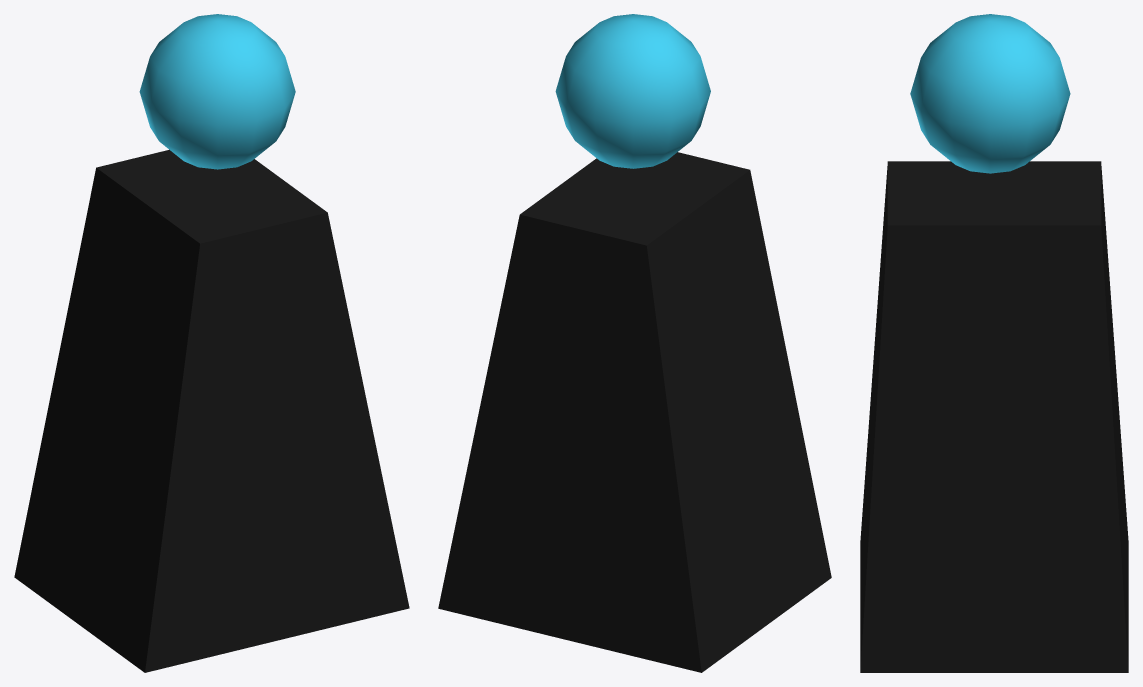
The model's file is SpherePillar.FBX.
The picture shows the model from 3 angles, left to right: view 1: azimuth 30°, elevation 25°; view 2: azimuth 150°, elevation 25°; view 3: azimuth 270°, elevation 25°; orthographic projection. The views are drawn at different scales.
Parts seen in each view (by area): view 1: Pillar, PillarSphere; view 2: Pillar, PillarSphere; view 3: Pillar, PillarSphere.
Part boxes in pixels (x1,y1,x2,y2): Pillar: (14, 149, 409, 672); PillarSphere: (139, 14, 295, 169); Pillar: (438, 152, 831, 672); PillarSphere: (555, 14, 710, 168); Pillar: (860, 161, 1128, 672); PillarSphere: (910, 14, 1070, 173).
Bounding box in the file's own units: 5.48 × 11.31 × 4.68.
